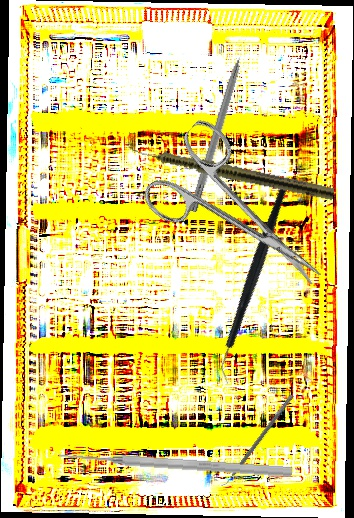Chopper: (159, 179, 352, 387)
Handpiece: (123, 141, 336, 201)
Hook Surgical: (188, 37, 252, 214)
Iris Scissors: (133, 115, 349, 322)
Pusher: (58, 447, 293, 480)
Spatula Surgical: (219, 391, 294, 490)
